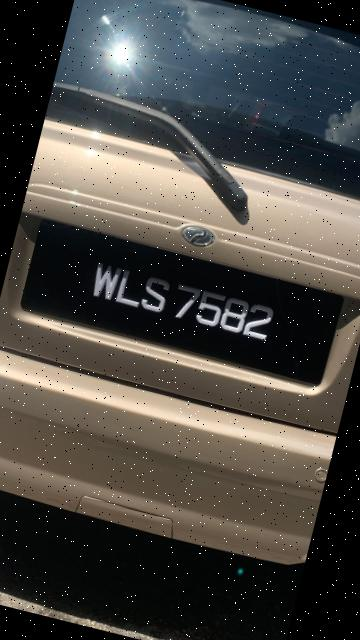License_Plate: (28, 228, 331, 382)
car: (1, 1, 360, 573)
